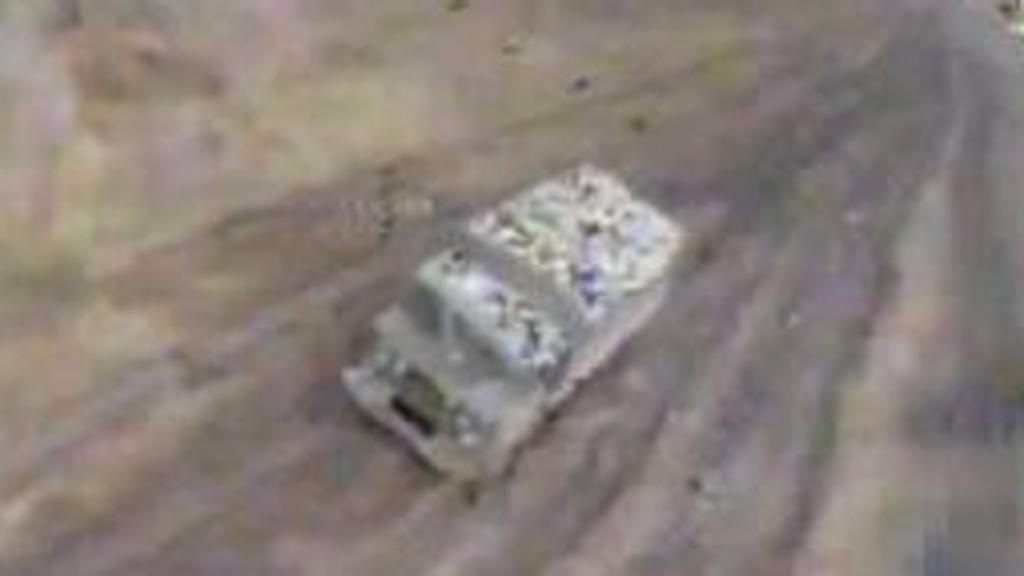TRUCK: (338, 159, 692, 475)
